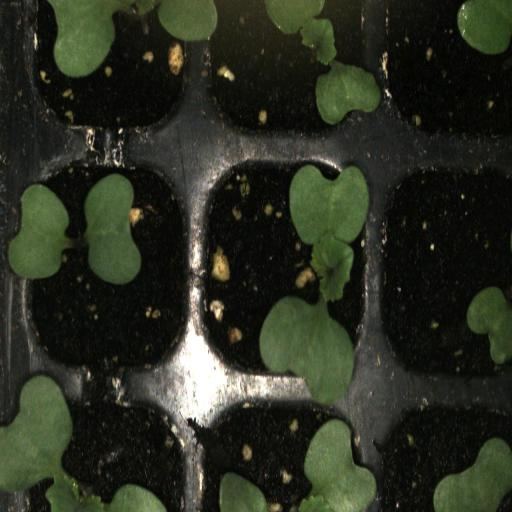seedling: (15, 146, 198, 378), (198, 146, 373, 384), (17, 0, 199, 142), (200, 0, 376, 140), (14, 383, 194, 512)
